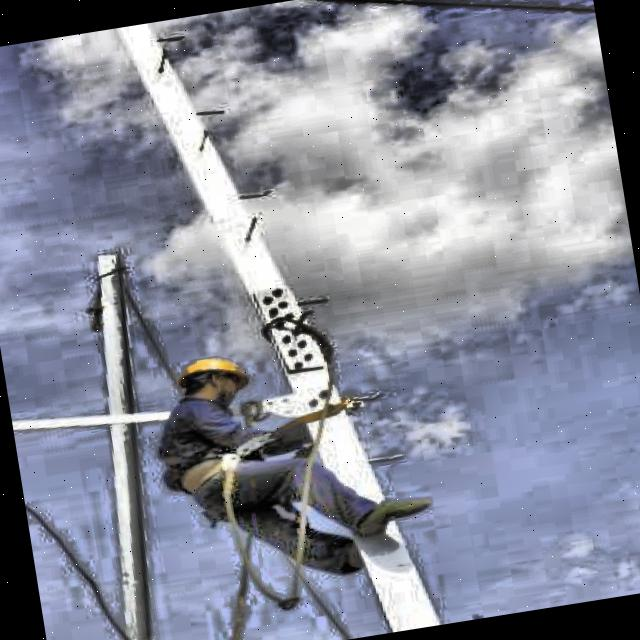helmet: (168, 354, 258, 416)
